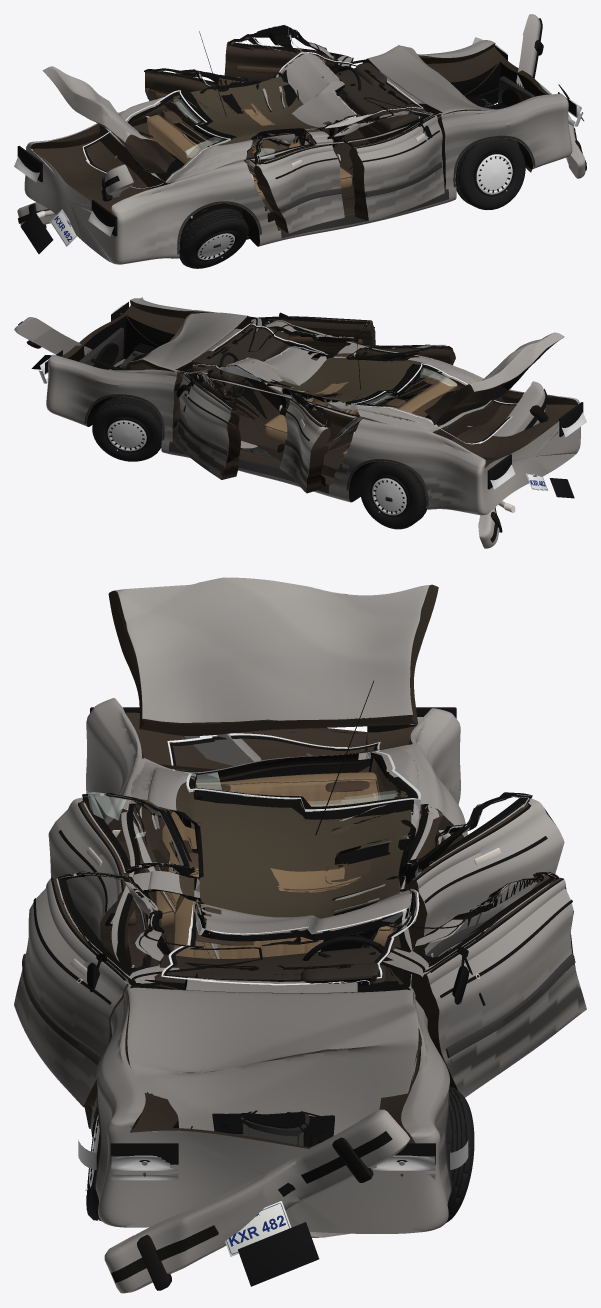
The model's file is sedan87_roll_d2.glb.
The picture shows the model from 3 angles, top to bottom: view 1: azimuth 30°, elevation 25°; view 2: azimuth 150°, elevation 25°; view 3: azimuth 270°, elevation 25°; orthographic projection. The views are drawn at different scales.
Visible parts, largest first — view 1: Body, Door_FR, Interior, Door_RR, Wheel_FR_mesh, Trunk, Hood, Door_FL, Wheel_RR_mesh, Ends, Glass, Door_RL (+7 smaller); view 2: Body, Door_FL, Interior, Wheel_FL_mesh, Wheel_RL_mesh, Trunk, Door_RL, Hood, Door_FR, Ends, Bumper_R, Glass (+9 smaller); view 3: Body, Trunk, Hood, Door_FL, Interior, Door_FR, Bumper_F, Door_RL, Ends, Door_RR, Glass, Trim_FL (+8 smaller).
Boxes of the visible parts, x1,y1,x2,y2 form: Body: [24, 40, 572, 264]; Door_FR: [327, 109, 444, 221]; Interior: [146, 62, 425, 199]; Door_RR: [254, 133, 344, 233]; Wheel_FR_mesh: [455, 138, 525, 210]; Trunk: [42, 66, 175, 173]; Hood: [366, 45, 531, 172]; Door_FL: [224, 25, 353, 81]; Wheel_RR_mesh: [179, 208, 248, 268]; Ends: [14, 37, 583, 253]; Glass: [82, 52, 423, 189]; Door_RL: [144, 68, 248, 144]; Body: [46, 298, 580, 515]; Door_FL: [175, 369, 240, 479]; Interior: [191, 325, 457, 458]; Wheel_FL_mesh: [92, 396, 162, 461]; Wheel_RL_mesh: [359, 461, 426, 529]; Trunk: [424, 332, 564, 424]; Door_RL: [279, 390, 331, 493]; Hood: [112, 312, 249, 398]; Door_FR: [249, 317, 375, 357]; Ends: [31, 297, 586, 498]; Bumper_R: [478, 381, 548, 548]; Glass: [193, 323, 517, 444]; Body: [86, 698, 467, 1233]; Trunk: [108, 577, 438, 735]; Hood: [126, 986, 421, 1237]; Door_FL: [381, 872, 586, 1097]; Interior: [142, 772, 393, 993]; Door_FR: [14, 872, 179, 1107]; Bumper_F: [104, 1109, 410, 1293]; Door_RL: [404, 792, 564, 956]; Ends: [78, 707, 468, 1286]; Door_RR: [48, 793, 194, 958]; Glass: [161, 733, 420, 985]; Trim_FL: [343, 872, 575, 1057].
Bounding box in the file's own units: 5.27 × 1.67 × 2.56.
29 materials, 5 textured.
